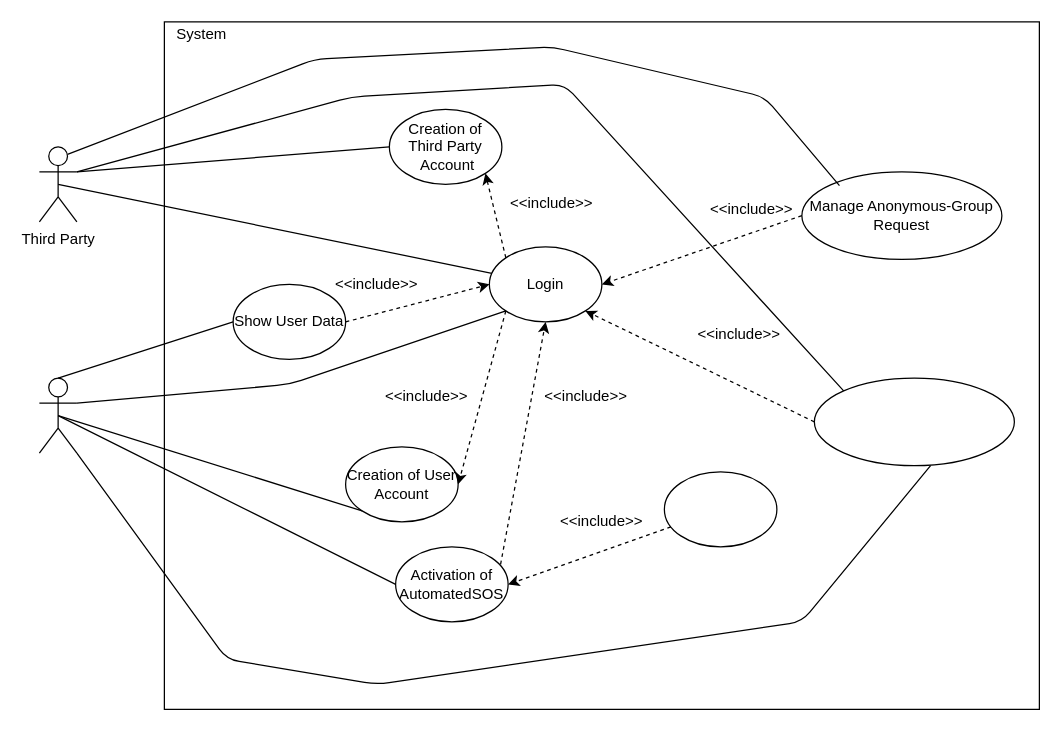
The diagram is 1061 pixels wide and 731 high, and some of its shapes have lost their labels. The centre of each missing label's shape, as x and y in pixels:
Call an ambulance: [720,509]
Manage Single-User Request: [913,421]
User: [57,415]
